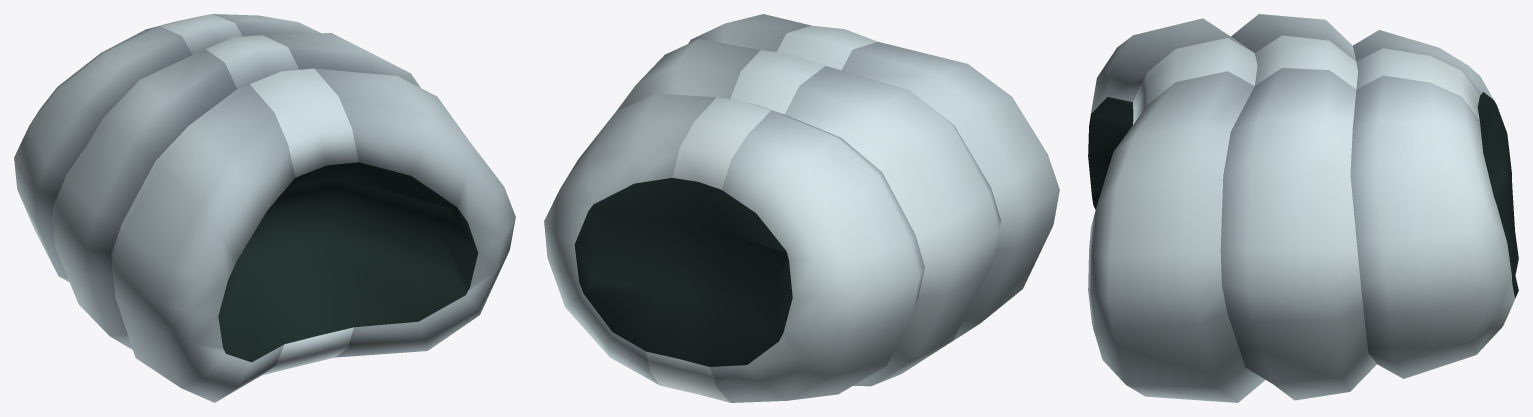
The model's file is bone_ribcage_LOD_group.fbx.
3 renders of one model, left to right at view 1: azimuth 30°, elevation 25°; view 2: azimuth 150°, elevation 25°; view 3: azimuth 270°, elevation 25°, orthographic. The views are drawn at different scales.
Parts seen in each view (by area): view 1: bone_ribcage_LOD0; view 2: bone_ribcage_LOD0; view 3: bone_ribcage_LOD0.
Part boxes in pixels (x1,y1,x2,y2): bone_ribcage_LOD0: (14, 14, 515, 402); bone_ribcage_LOD0: (544, 14, 1059, 402); bone_ribcage_LOD0: (1088, 14, 1518, 402).
Size of what is drawn, in the model's own units: 64.83 by 48.75 by 61.84.
1 material, 1 textured.
